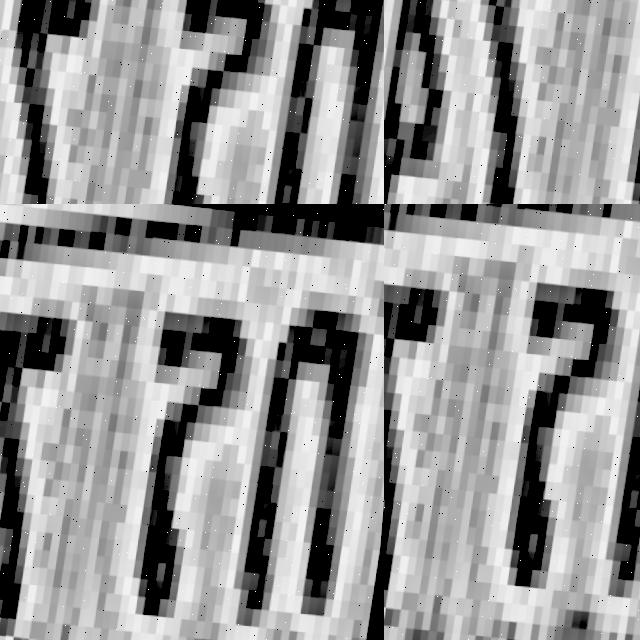license-plate: (384, 204, 640, 640), (0, 392, 360, 640), (0, 0, 384, 204), (384, 0, 640, 204)
